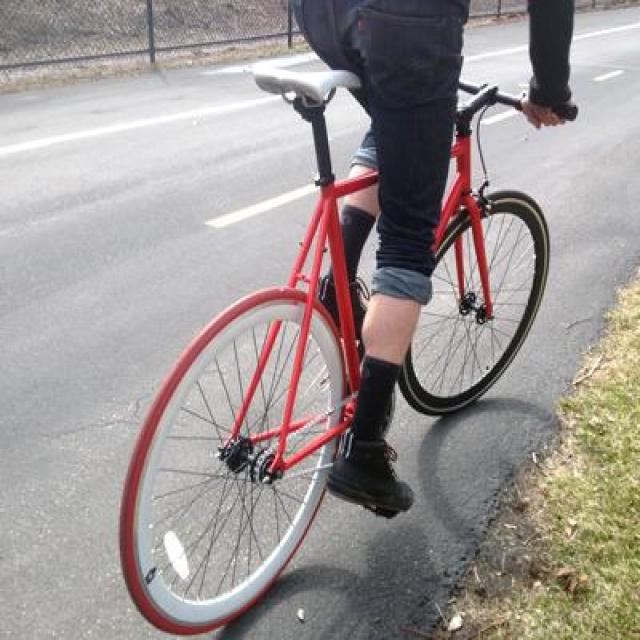bikerider: (115, 0, 597, 628)
